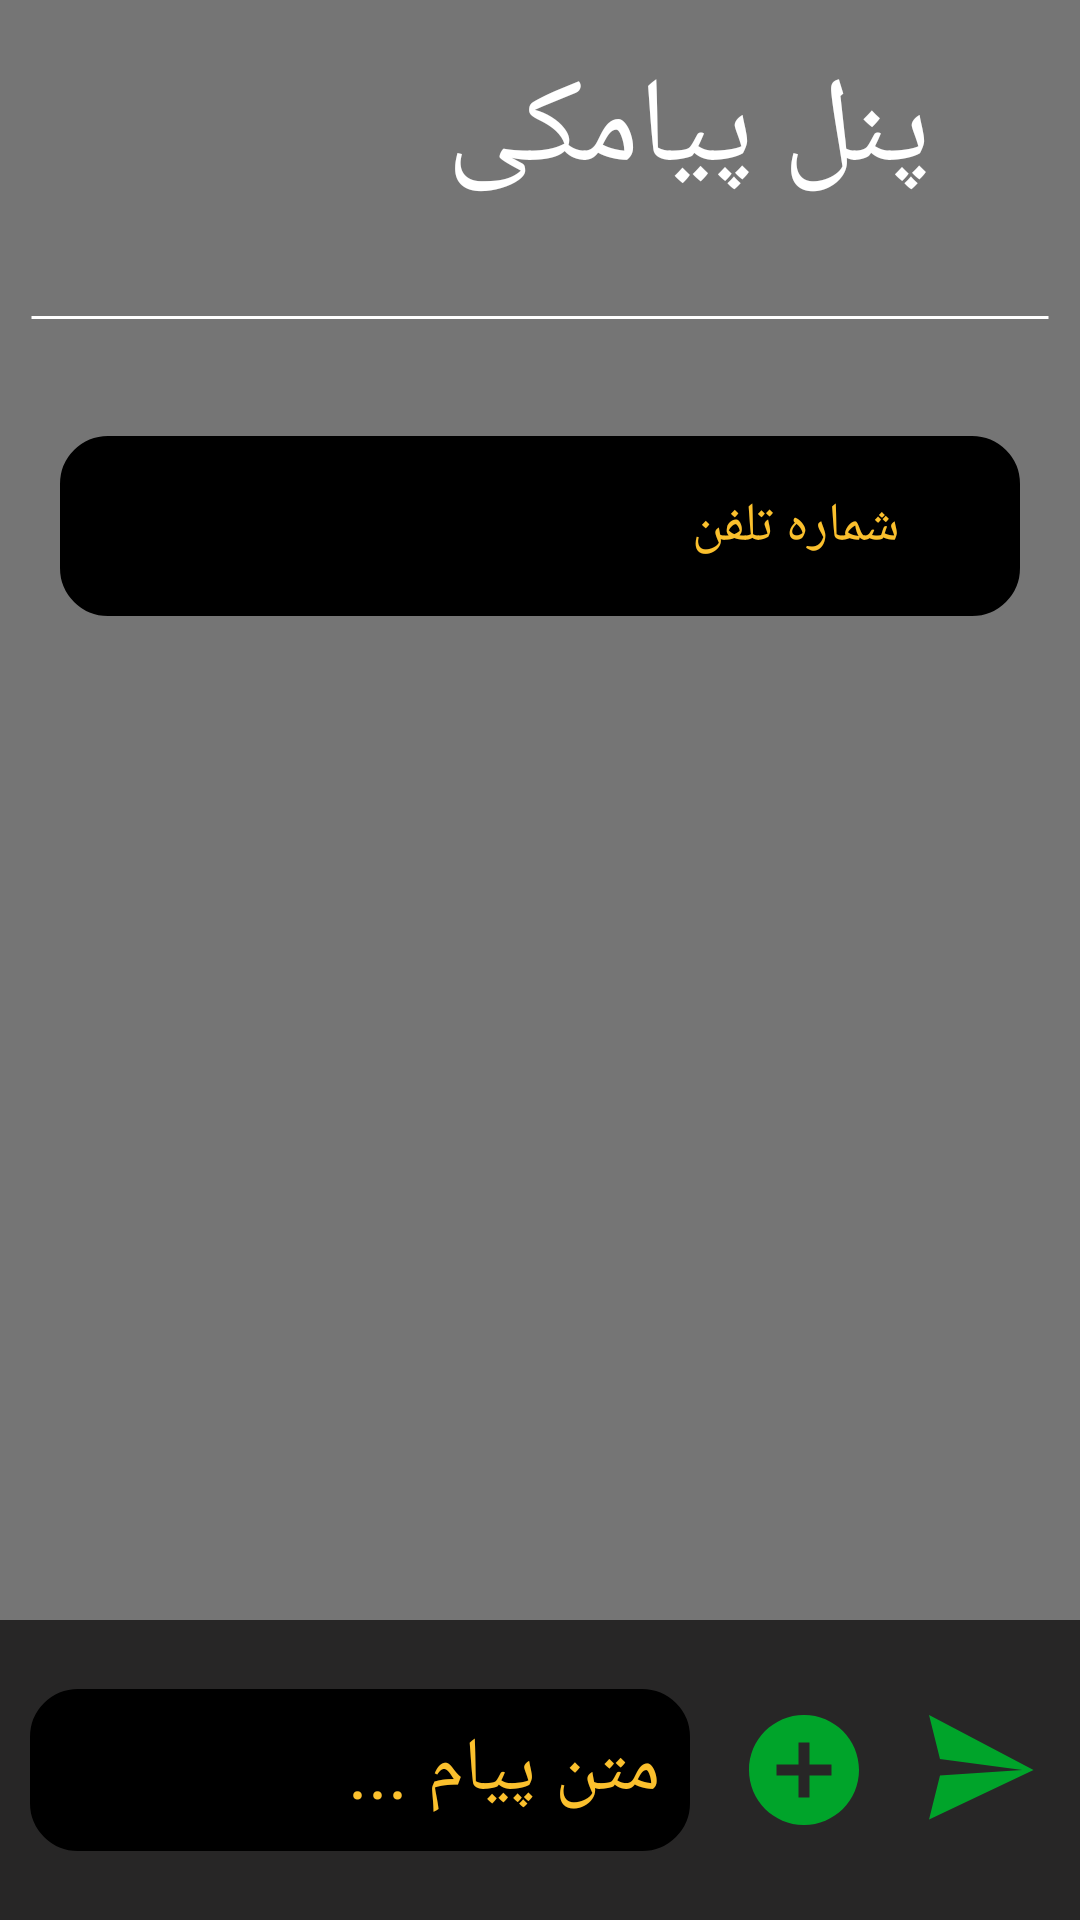

Where icons sit on this 1080 × 1920 app screen, as (x1, y1, x2, y2):
add circle: (749, 1715, 859, 1825)
send: (929, 1715, 1033, 1820)
